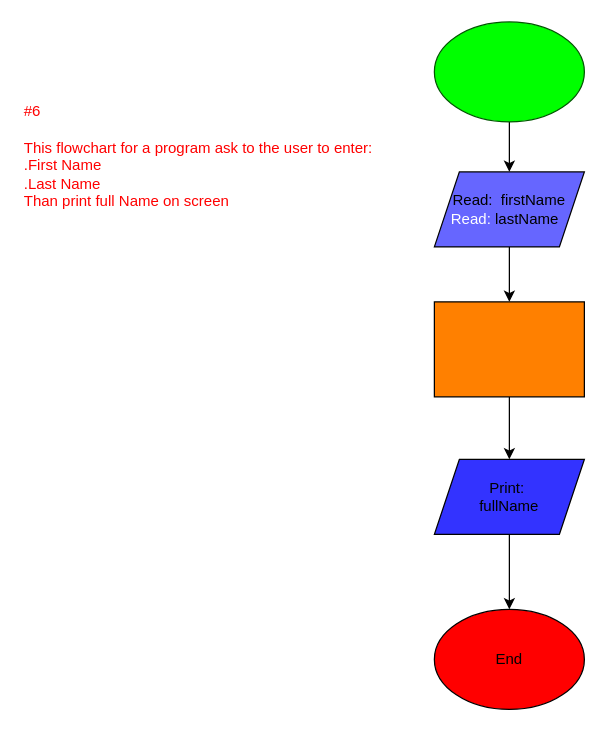
Image size: 606x731. Some labels were removed from this diagram. The shapes that lost their labels are listed below. From the top down, each one's centre as x and y in pixels, then its label:
point 508,71: Start
point 508,349: fullName = " firstName " + " lastName"
